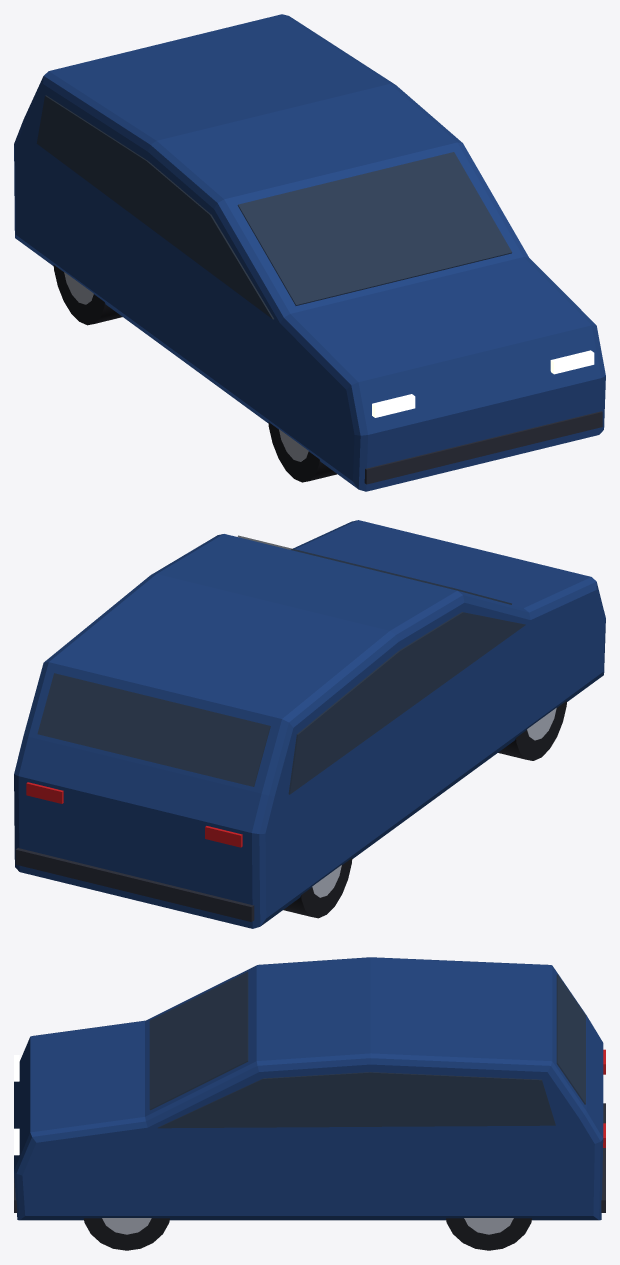
Rendered from prk-001.glb.
3 renders of one model, top to bottom at view 1: azimuth 30°, elevation 25°; view 2: azimuth 150°, elevation 25°; view 3: azimuth 270°, elevation 25°, orthographic. The views are drawn at different scales.
Parts seen in each view (by area): view 1: car_paint_blue, glass_tinted, plastic_dark, rubber, lamp, steel; view 2: car_paint_blue, glass_tinted, plastic_dark, rubber, accent_red, steel; view 3: car_paint_blue, glass_tinted, rubber, steel, plastic_dark.
Boxes of the visible parts, bbox=[...] form: car_paint_blue: bbox=[14, 14, 605, 491]; glass_tinted: bbox=[36, 95, 511, 319]; plastic_dark: bbox=[364, 411, 602, 484]; rubber: bbox=[53, 265, 337, 482]; lamp: bbox=[372, 350, 594, 417]; steel: bbox=[64, 272, 308, 461]; car_paint_blue: bbox=[14, 520, 605, 928]; glass_tinted: bbox=[37, 535, 525, 794]; plastic_dark: bbox=[15, 847, 254, 921]; rubber: bbox=[283, 701, 566, 918]; accent_red: bbox=[26, 782, 242, 847]; steel: bbox=[312, 708, 556, 897]; car_paint_blue: bbox=[14, 957, 603, 1220]; glass_tinted: bbox=[149, 971, 585, 1128]; rubber: bbox=[83, 1218, 531, 1250]; steel: bbox=[102, 1218, 513, 1234]; plastic_dark: bbox=[14, 1103, 605, 1212].
Bounding box in the file's own units: 1.77 × 1.54 × 4.25.
